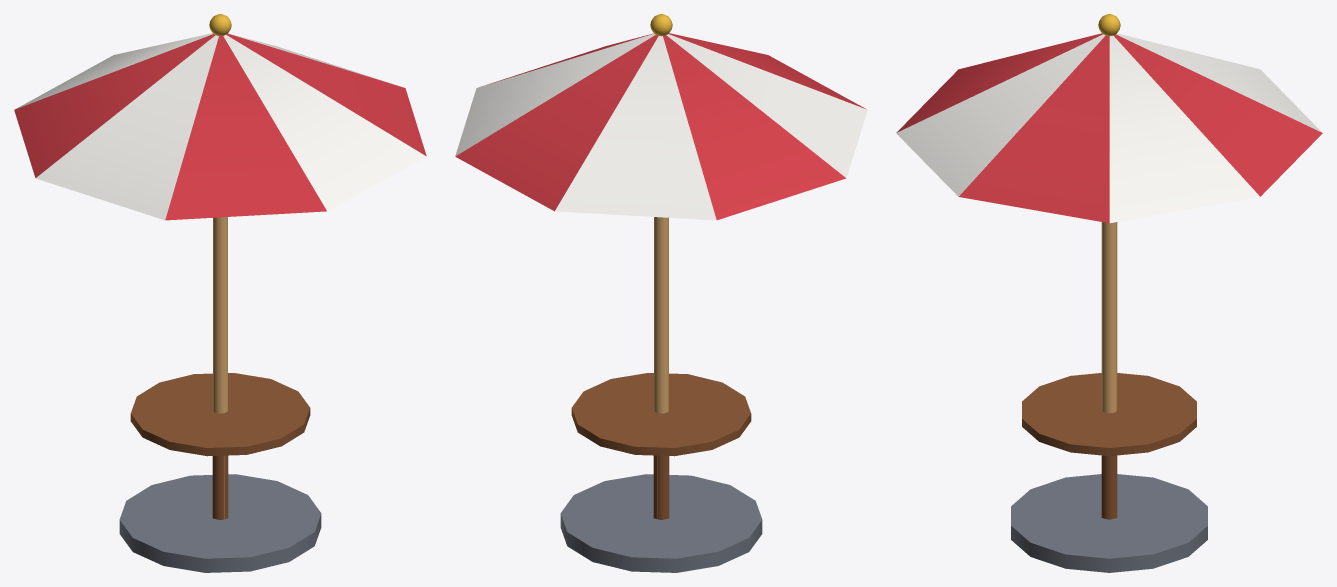
Rendered from beach_umbrella.glb.
The picture shows the model from 3 angles, left to right: view 1: azimuth 30°, elevation 25°; view 2: azimuth 150°, elevation 25°; view 3: azimuth 270°, elevation 25°; orthographic projection.
Parts seen in each view (by area): view 1: root; view 2: root; view 3: root.
Part boxes in pixels (<box>): root: <box>14,14,426,572</box>; root: <box>455,14,867,572</box>; root: <box>896,14,1322,572</box>.
Bounding box in the file's own units: 1.9 × 2.53 × 1.9.
